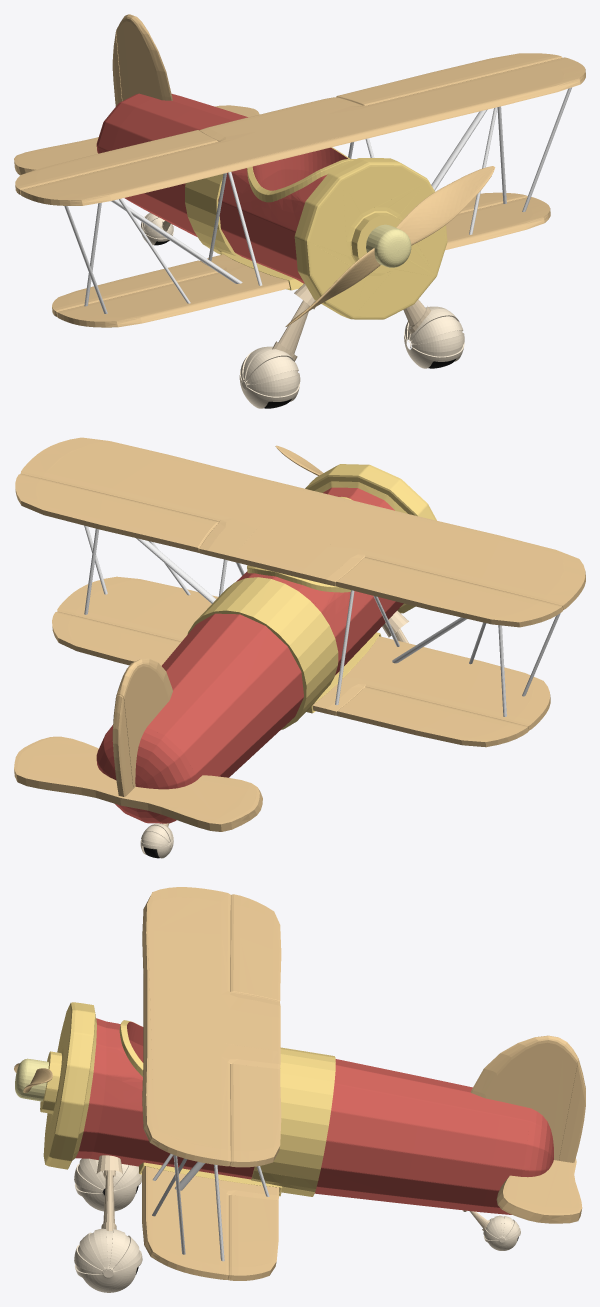
File: sweethome3d-blendswap-cc-0-biplane.glb
3 renders of one model, top to bottom at view 1: azimuth 30°, elevation 25°; view 2: azimuth 150°, elevation 25°; view 3: azimuth 270°, elevation 25°, orthographic.
Visible parts, largest first — view 1: Plane_Sphere.001; view 2: Plane_Sphere.001; view 3: Plane_Sphere.001.
Part boxes in pixels (bbox=[...]): Plane_Sphere.001: bbox=[14, 14, 585, 408]; Plane_Sphere.001: bbox=[14, 437, 585, 858]; Plane_Sphere.001: bbox=[14, 887, 585, 1292].
Size of the model in its own units: 13.8 by 5.7 by 12.41.
